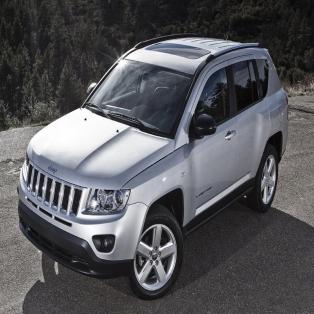Auto: (17, 34, 288, 298)
